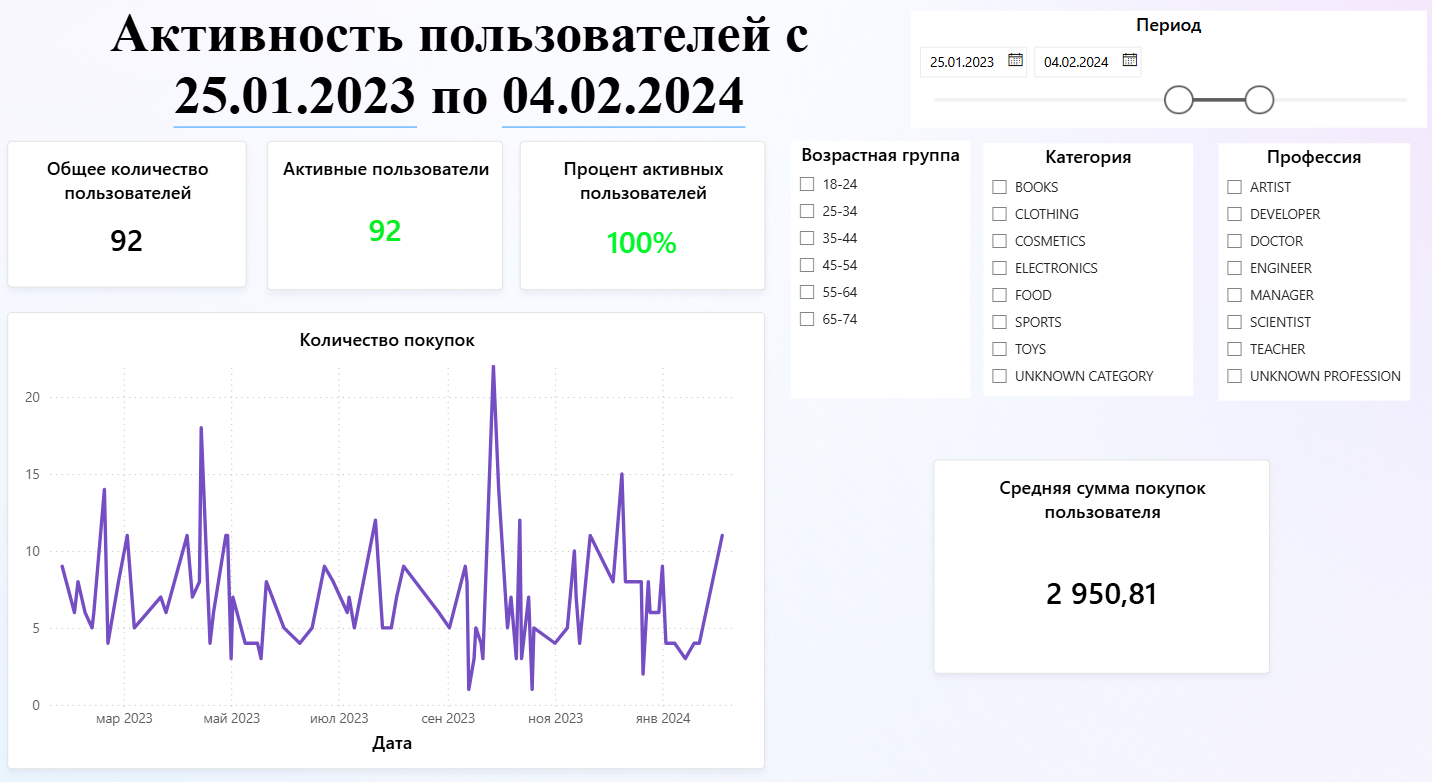

The dashboard page shown, as its layout file describes it:
{"tool":"powerbi","page":{"name":"Активность и поведение пользователей","canvas":[1280,720],"ordinal":1},"visuals":[{"type":"textbox","box":[9.6,0,804.1,131.7],"z":0},{"type":"slicer","title":"Период","fields":{"Values":["Calendar.Date"]},"box":[813.7,12.3,458.3,104.3],"z":1000},{"type":"card","title":"Активные пользователи","fields":{"Values":["_Меры.ActiveUsers"]},"box":[241.5,127.6,209.9,133.1],"z":2000},{"type":"card","title":"Общее количество пользователей","fields":{"Values":["_Меры.TotalUsers"]},"box":[9.6,127.6,212.7,130.4],"z":3000},{"type":"card","title":"Процент активных пользователей","fields":{"Values":["_Меры.PercentActiveUsers"]},"box":[465.2,127.6,218.2,133.1],"z":4000},{"type":"card","title":"Средняя сумма покупок пользователя","fields":{"Values":["_Меры.AverageAmountPerUser"]},"box":[832.9,411.7,299.1,190.7],"z":5000},{"type":"slicer","title":"Возрастная группа","fields":{"Values":["users.DistributionAge"]},"box":[706.7,127.6,159.2,229.2],"z":6000},{"type":"lineChart","title":"Количество покупок","fields":{"Y":["CountNonNull(purchases.id)"],"Category":["Calendar.Date"]},"box":[9.6,279.9,673.8,406.2],"z":7000},{"type":"slicer","title":"Профессия","fields":{"Values":["users.profession"]},"box":[1086.8,130.4,170.2,229.2],"z":8000},{"type":"slicer","title":"Категория","fields":{"Values":["dir_category.category_name"]},"box":[878.2,130.4,186.6,225],"z":10000}]}

Visuals, with their boxes on the page's 1280x720 design canvas (x1, y1, x2, y2). These are canvas units, not pixel positions in the 1432x782 screenshot, which may show the page scaled, cropped or inside an application window:
textbox: x1=10, y1=0, x2=814, y2=132
"Период" slicer: x1=814, y1=12, x2=1272, y2=117
"Активные пользователи" card: x1=242, y1=128, x2=451, y2=261
"Общее количество пользователей" card: x1=10, y1=128, x2=222, y2=258
"Процент активных пользователей" card: x1=465, y1=128, x2=683, y2=261
"Средняя сумма покупок пользователя" card: x1=833, y1=412, x2=1132, y2=602
"Возрастная группа" slicer: x1=707, y1=128, x2=866, y2=357
"Количество покупок" lineChart: x1=10, y1=280, x2=683, y2=686
"Профессия" slicer: x1=1087, y1=130, x2=1257, y2=360
"Категория" slicer: x1=878, y1=130, x2=1065, y2=355
